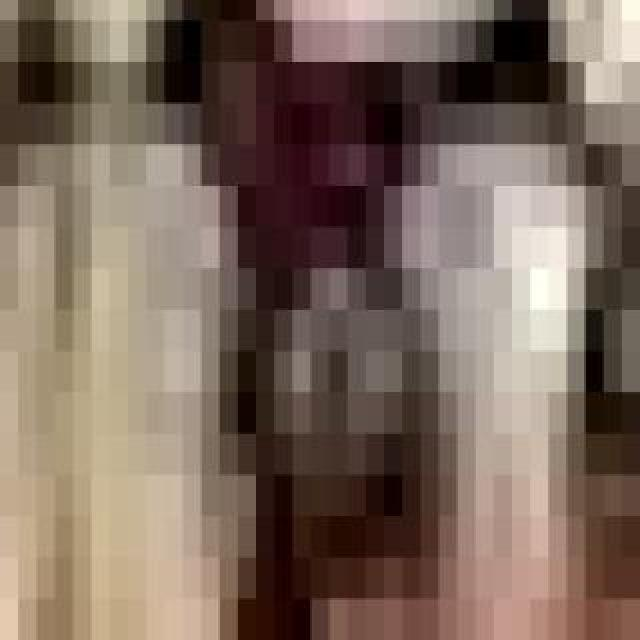cavities: (200, 200, 474, 640), (536, 252, 640, 592)
